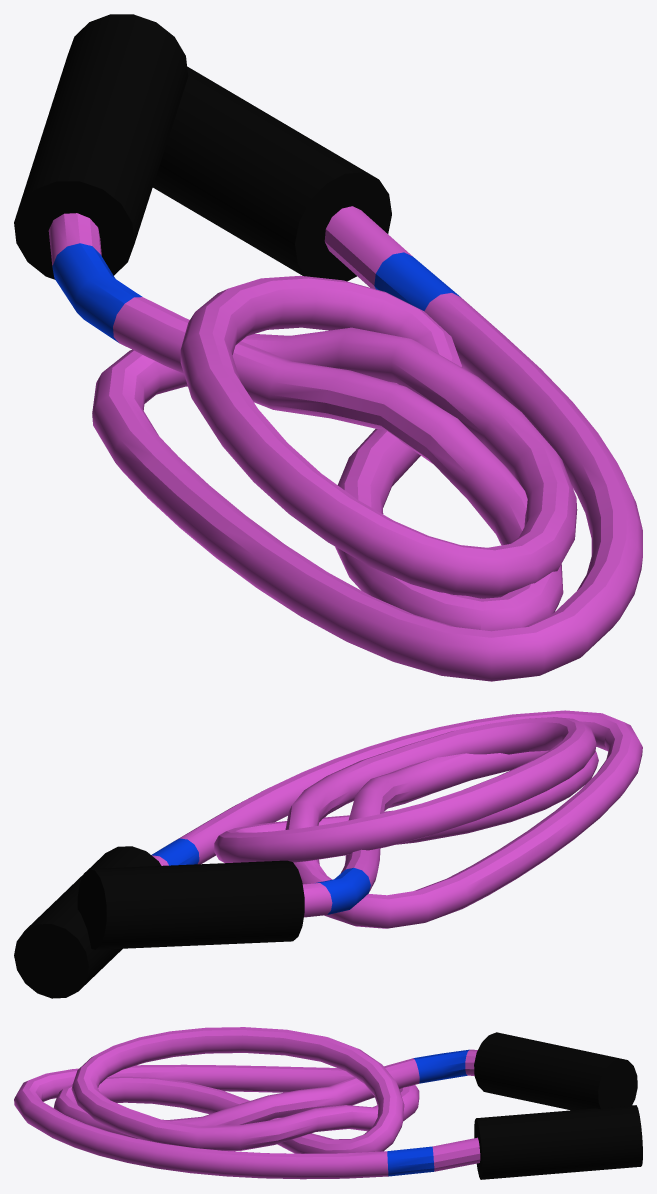
File: cordadepular.fbx
The picture shows the model from 3 angles, top to bottom: view 1: azimuth 30°, elevation 25°; view 2: azimuth 150°, elevation 25°; view 3: azimuth 270°, elevation 25°; orthographic projection. The views are drawn at different scales.
Parts seen in each view (by area): view 1: cordadepular; view 2: cordadepular; view 3: cordadepular.
Part boxes in pixels (bbox=[...]): cordadepular: bbox=[14, 14, 642, 681]; cordadepular: bbox=[14, 710, 642, 998]; cordadepular: bbox=[14, 1027, 642, 1179].
Size of the model in its own units: 77.78 by 33.35 by 192.
